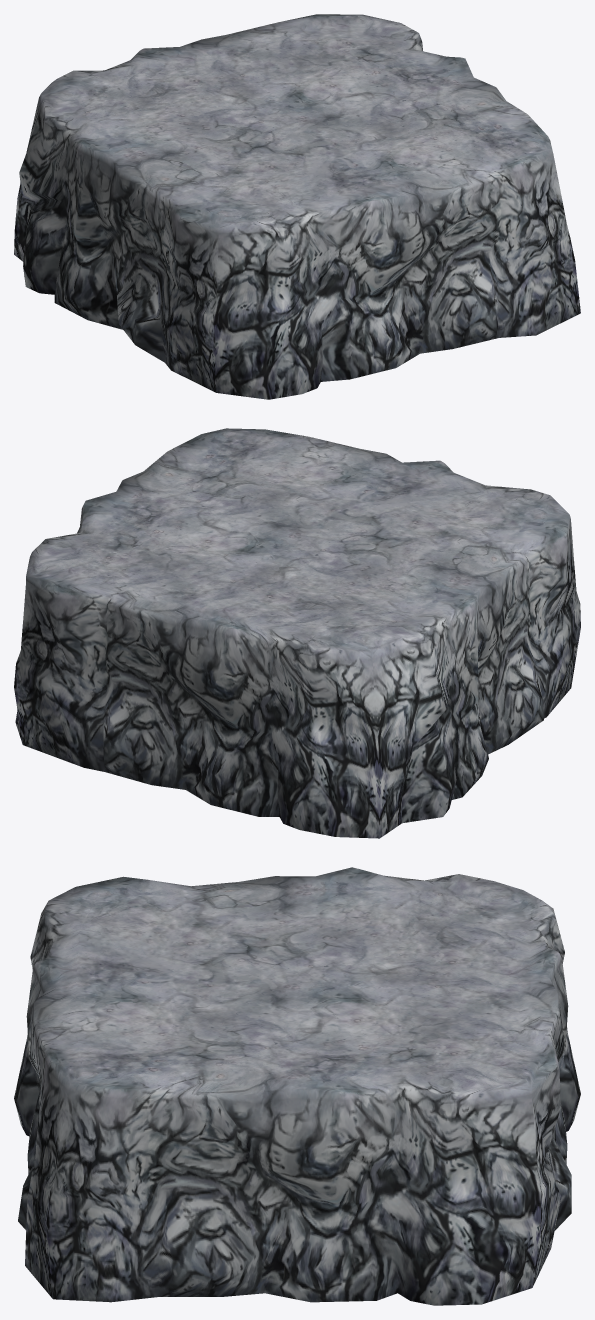
Rendered from STR_FloorCaveC.FBX.
The picture shows the model from 3 angles, top to bottom: view 1: azimuth 30°, elevation 25°; view 2: azimuth 150°, elevation 25°; view 3: azimuth 270°, elevation 25°; orthographic projection. The views are drawn at different scales.
Parts seen in each view (by area): view 1: STR_FloorCaveC; view 2: STR_FloorCaveC; view 3: STR_FloorCaveC.
Part boxes in pixels (x1,y1,x2,y2): STR_FloorCaveC: (14, 14, 580, 399); STR_FloorCaveC: (14, 428, 580, 838); STR_FloorCaveC: (14, 867, 580, 1305).
Bounding box in the file's own units: 1027 × 406 × 1005.
